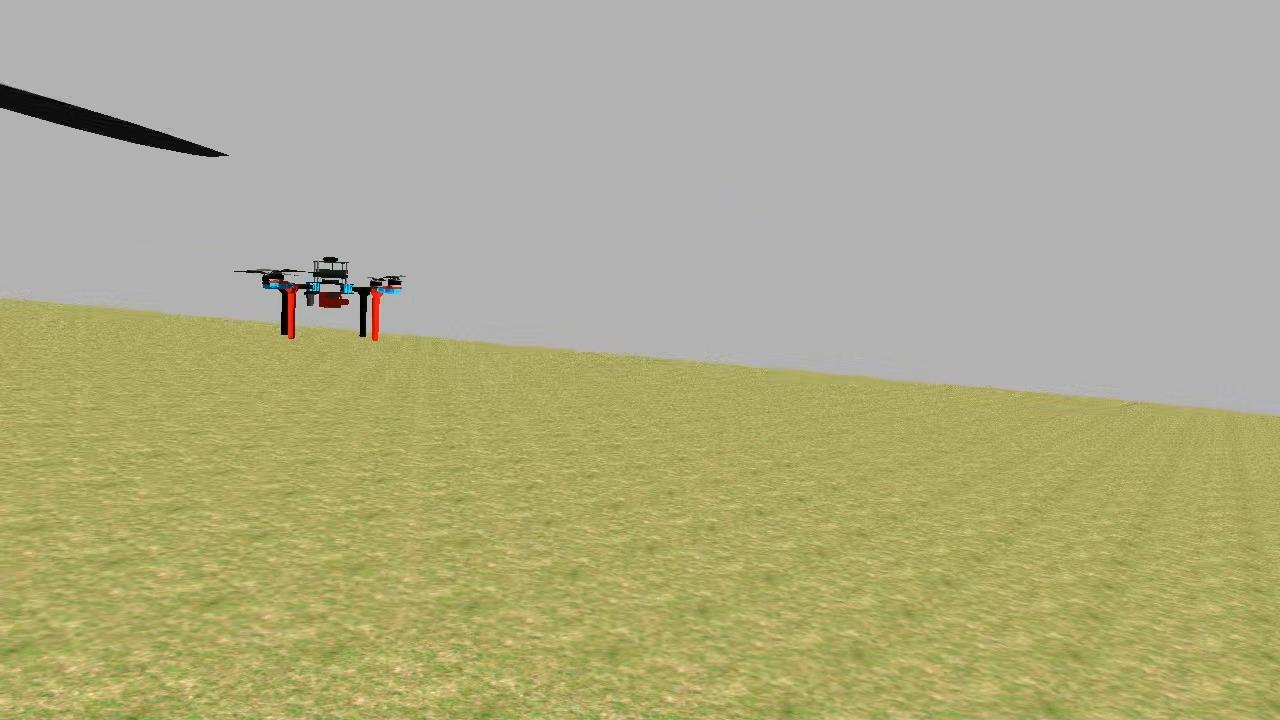UAV: (253, 252, 407, 348)
